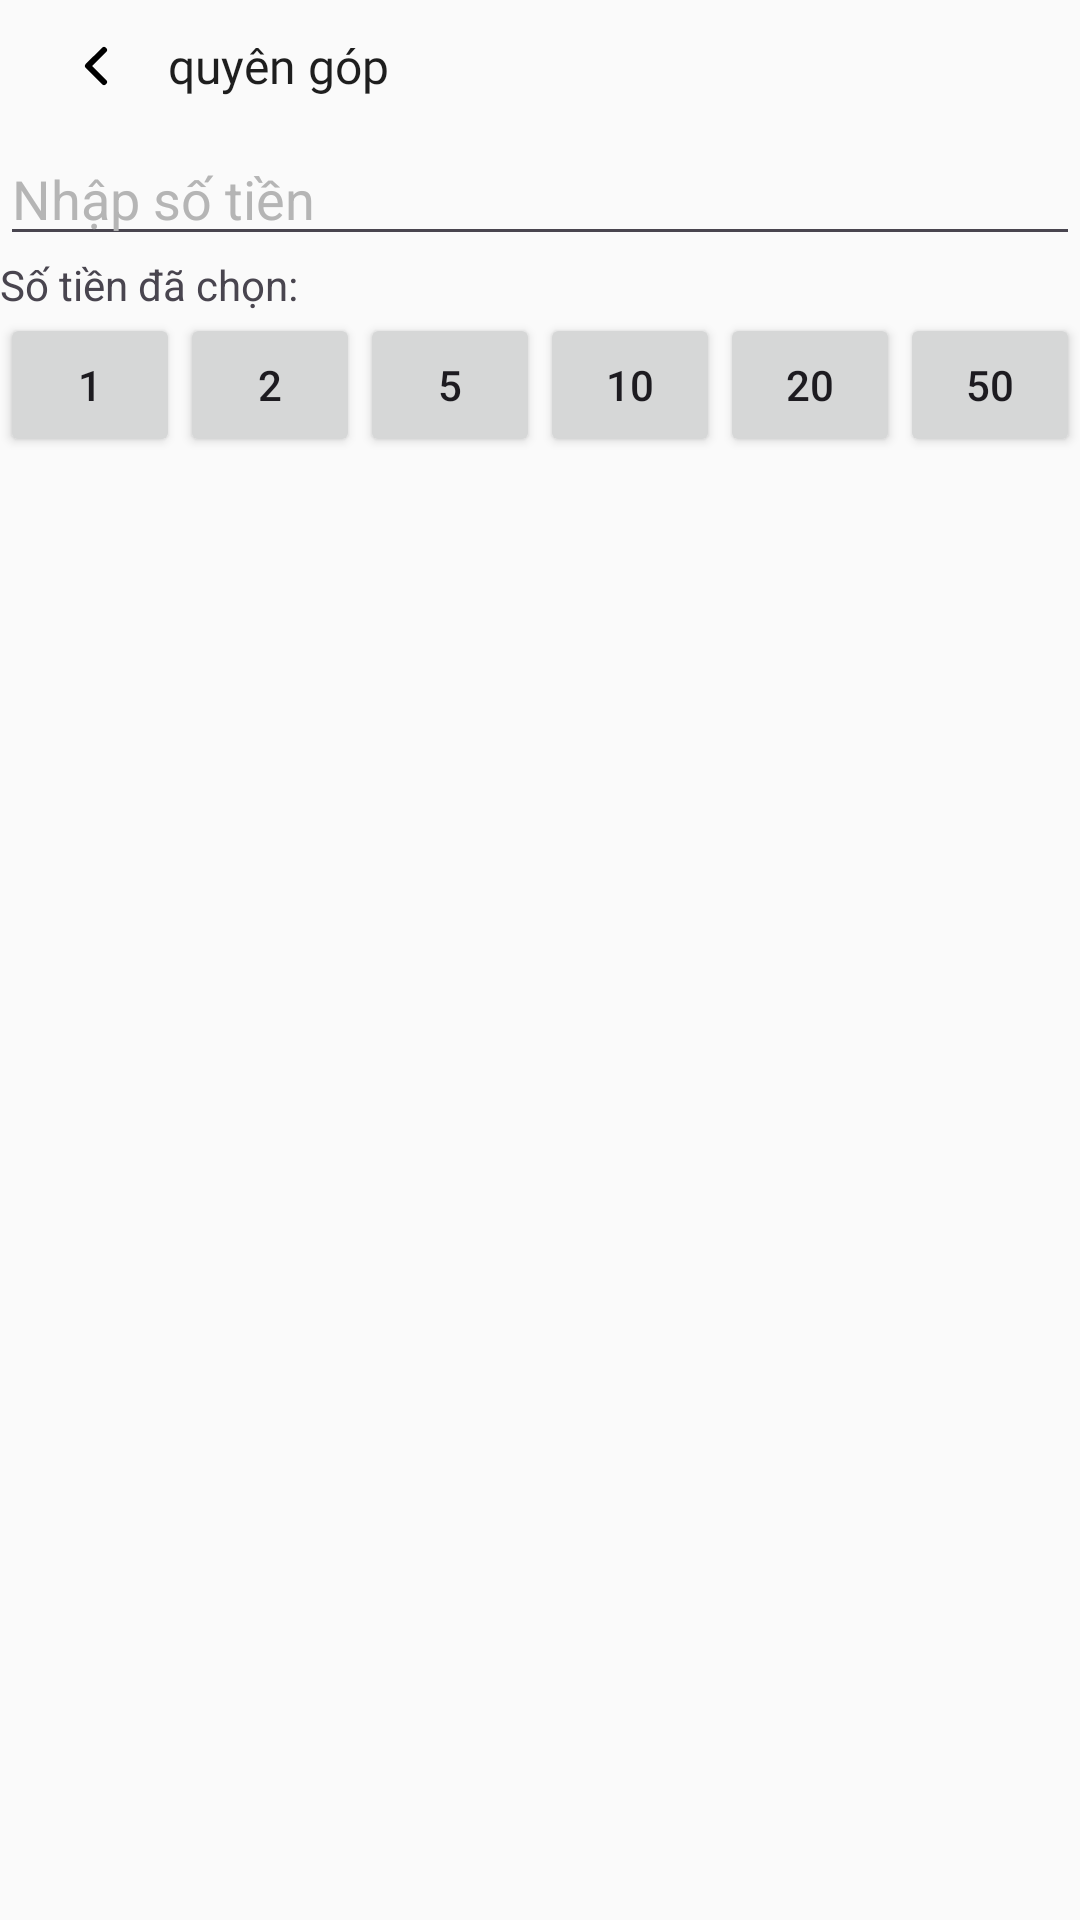

Icon bounding boxes for this 1080w x 1920h phone screenshot, format rect(x1, y1, x2, y2):
back: rect(85, 47, 107, 85)
